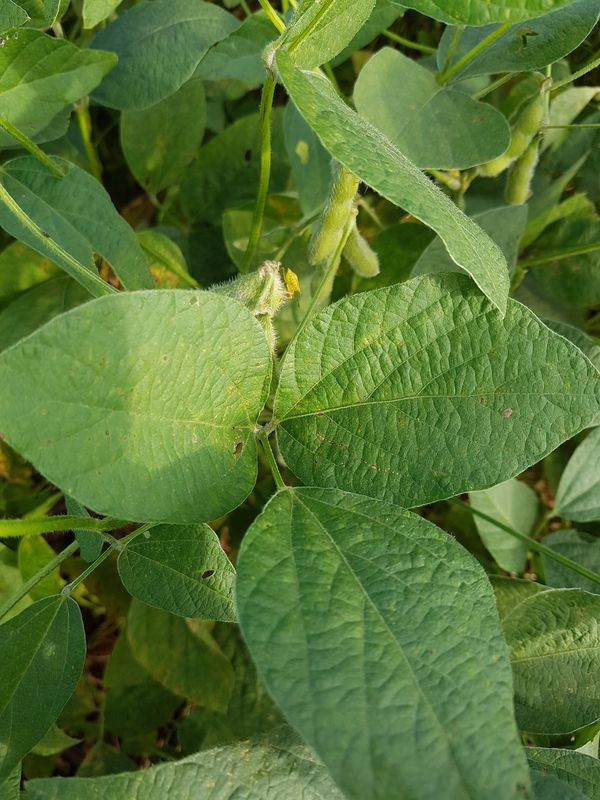Euschistus_heros_ninfa: (272, 263, 309, 303)
